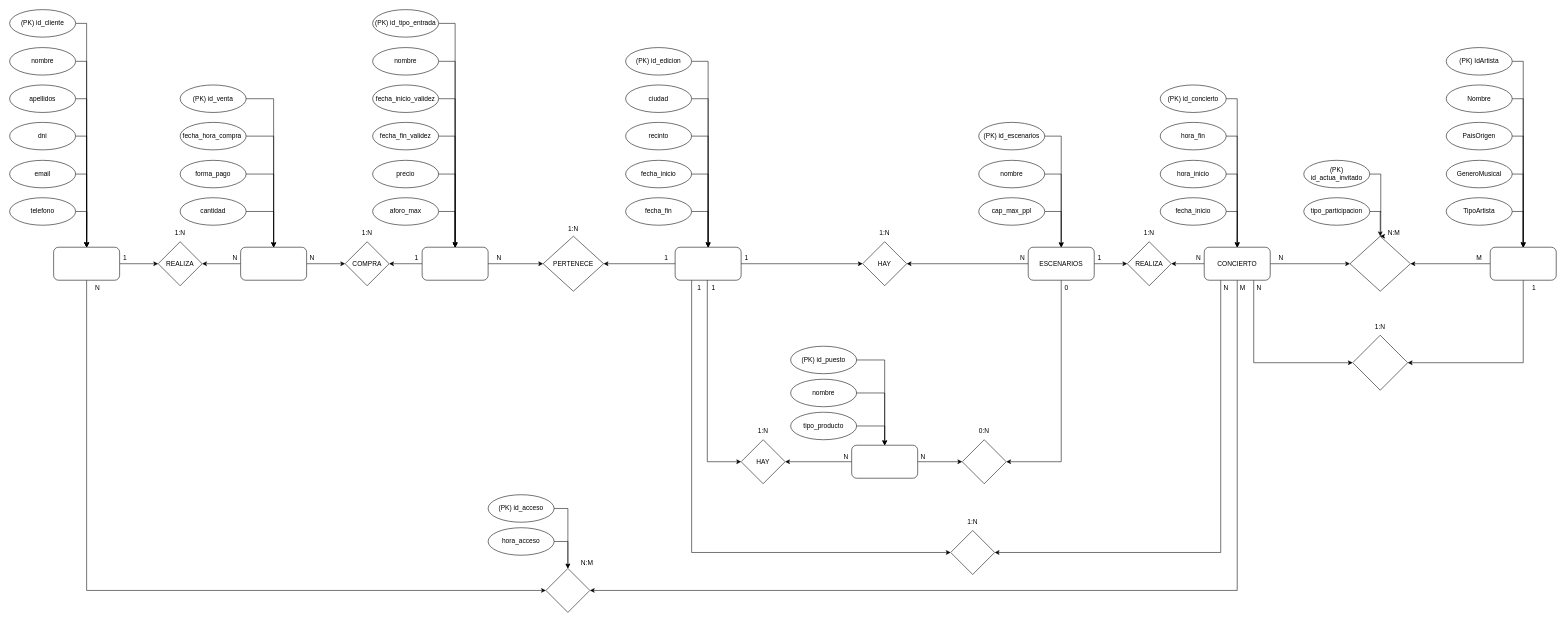
Some shapes in this 1566 by 622 pixel diagram are drawn without their labels. The shapes that lost their labels are listed below. From the top down, each one's box as (x1, y1, x2, y2) in pixels, then its label:
(53, 247, 120, 280): CLIENTE
(240, 247, 307, 280): VENTA
(422, 247, 488, 280): TIPO ENTRADA
(675, 247, 741, 280): EDICION
(1349, 236, 1410, 291): ACTUA INVITADO
(1490, 247, 1556, 280): ARTISTA
(1352, 335, 1408, 390): ACTUA PRINCIPAL
(851, 445, 918, 478): PUESTO
(962, 439, 1006, 484): UBICADO
(950, 530, 995, 574): TIENE
(545, 568, 590, 612): ACCESO
